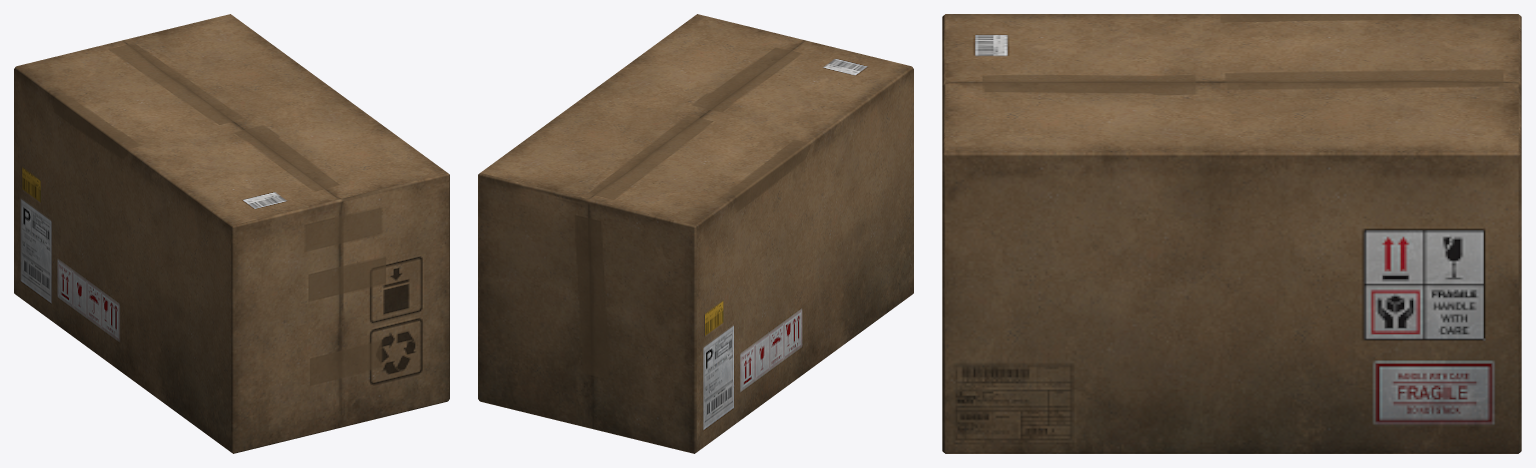
File: Pack_02.fbx
3 renders of one model, left to right at view 1: azimuth 30°, elevation 25°; view 2: azimuth 150°, elevation 25°; view 3: azimuth 270°, elevation 25°, orthographic. The views are drawn at different scales.
Parts seen in each view (by area): view 1: polySurface9; view 2: polySurface9; view 3: polySurface9.
Boxes of the visible parts, x1,y1,x2,y2 form: polySurface9: [14, 14, 449, 453]; polySurface9: [478, 14, 913, 453]; polySurface9: [942, 14, 1521, 453].
Bounding box in the file's own units: 41.54 × 41.54 × 72.24.
